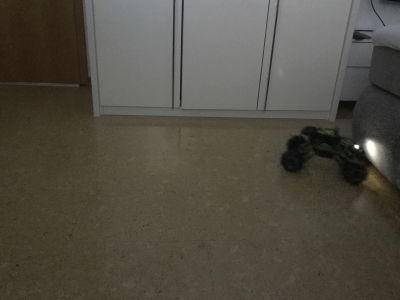remote control car: (276, 119, 368, 184)
